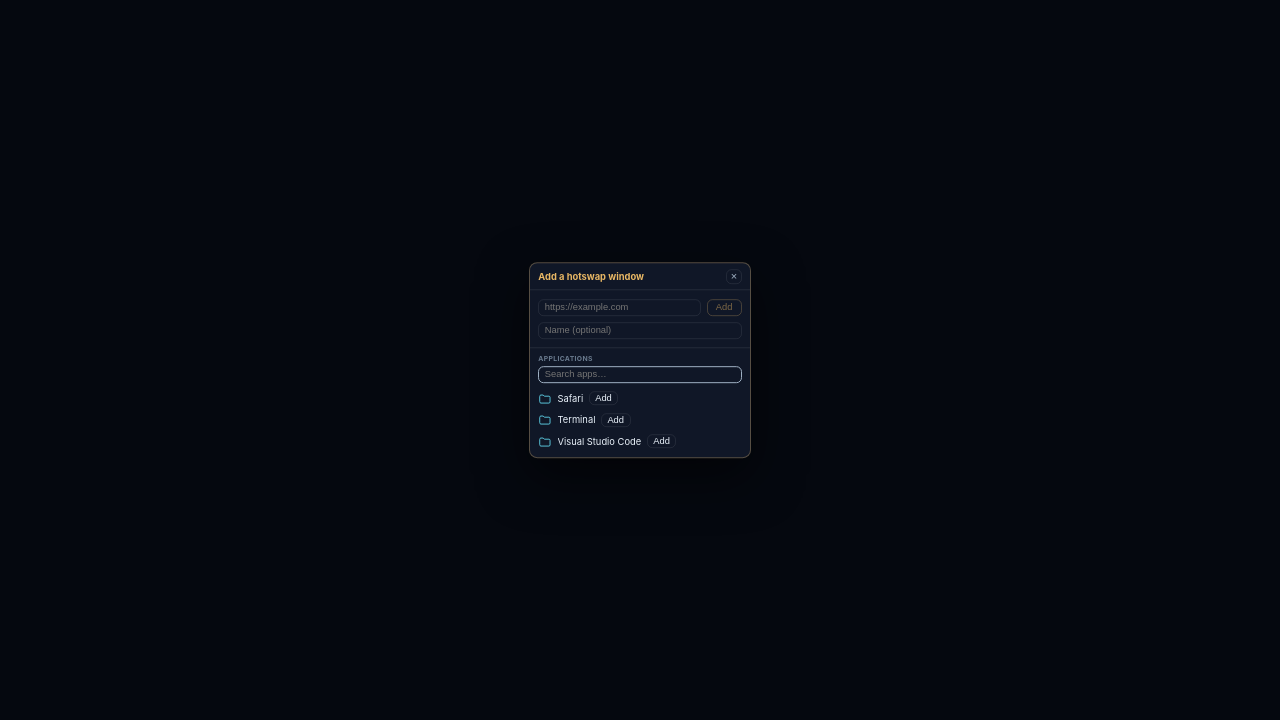
ReferencePicker search (NIC-167) › reports an empty search honestly, and distinguishes it from an empty inventory
This screenshot has width=1280, height=720.
Step 1. Type "zzz" into the search field named "Search applications" → (640, 375), box [538, 366, 742, 383]
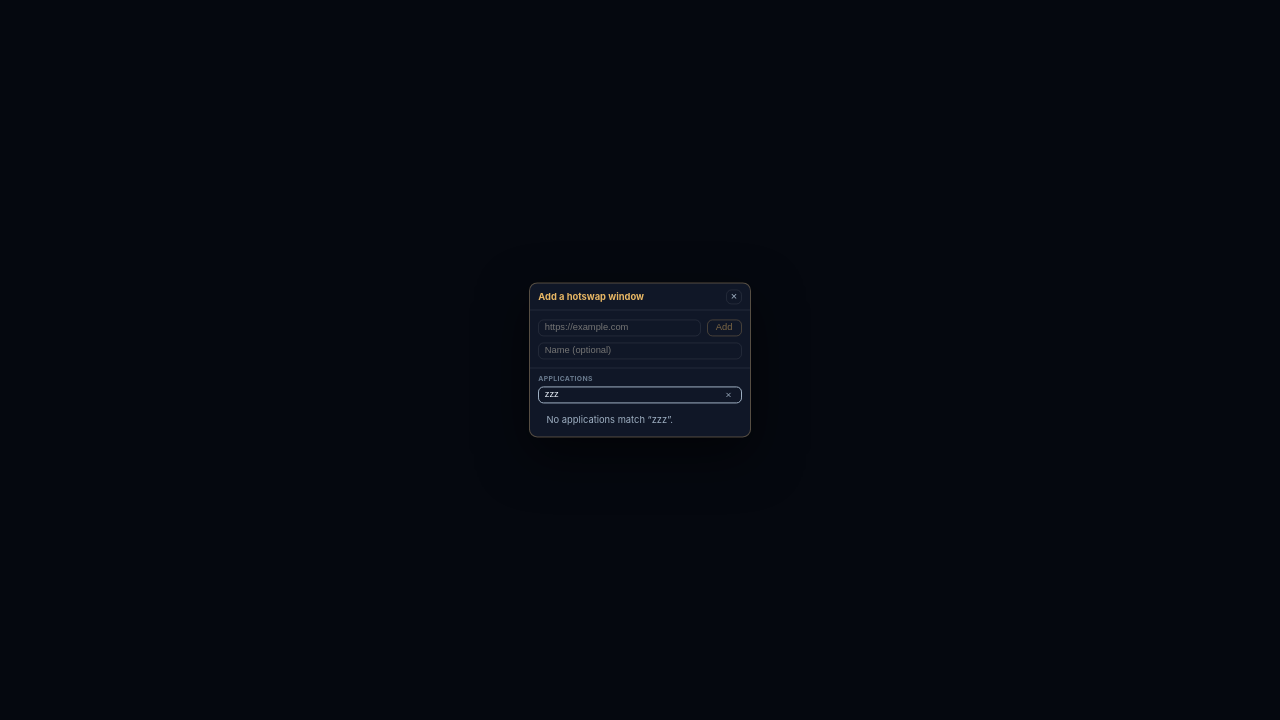
Expected: the text "No applications match “zzz”." is shown, [546, 415, 673, 426]
